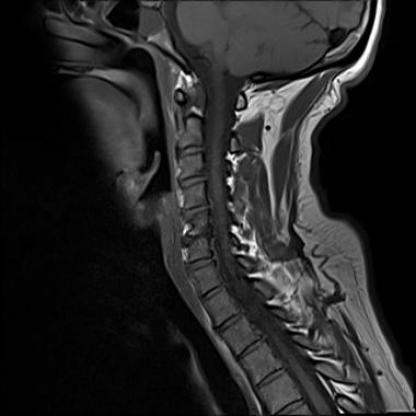Degenerative Disc Diseaserotation: (183, 230, 214, 246)
Disc Bulgerotation: (187, 256, 217, 272)
Disc Protrusionrotation: (180, 204, 213, 223), (182, 231, 214, 246)
